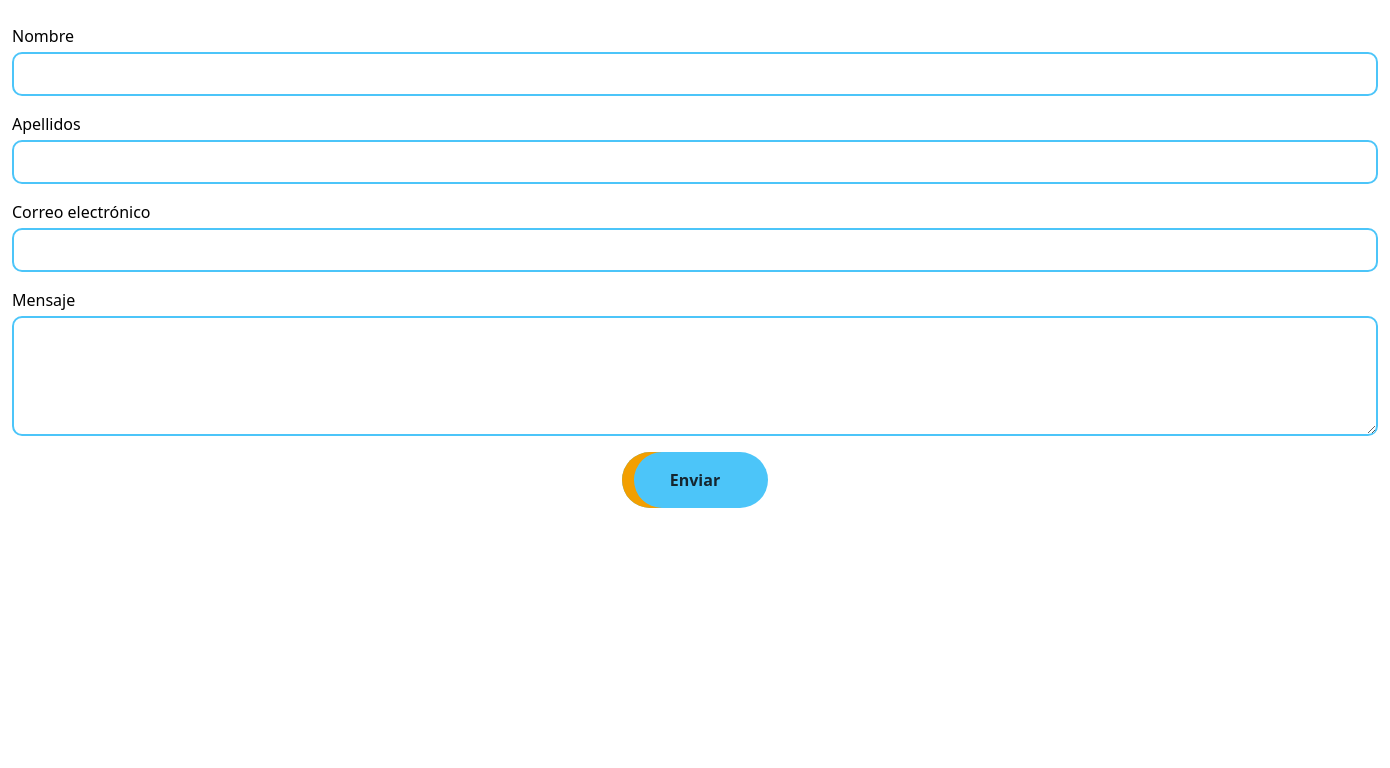
Test: ContactForm with a Formspree ID › keeps what the user typed and offers the email when sending fails
Step 1. Type "Ana" into the field labelled "Nombre" → (695, 74), box x1=12 y1=52 x2=1378 y2=96
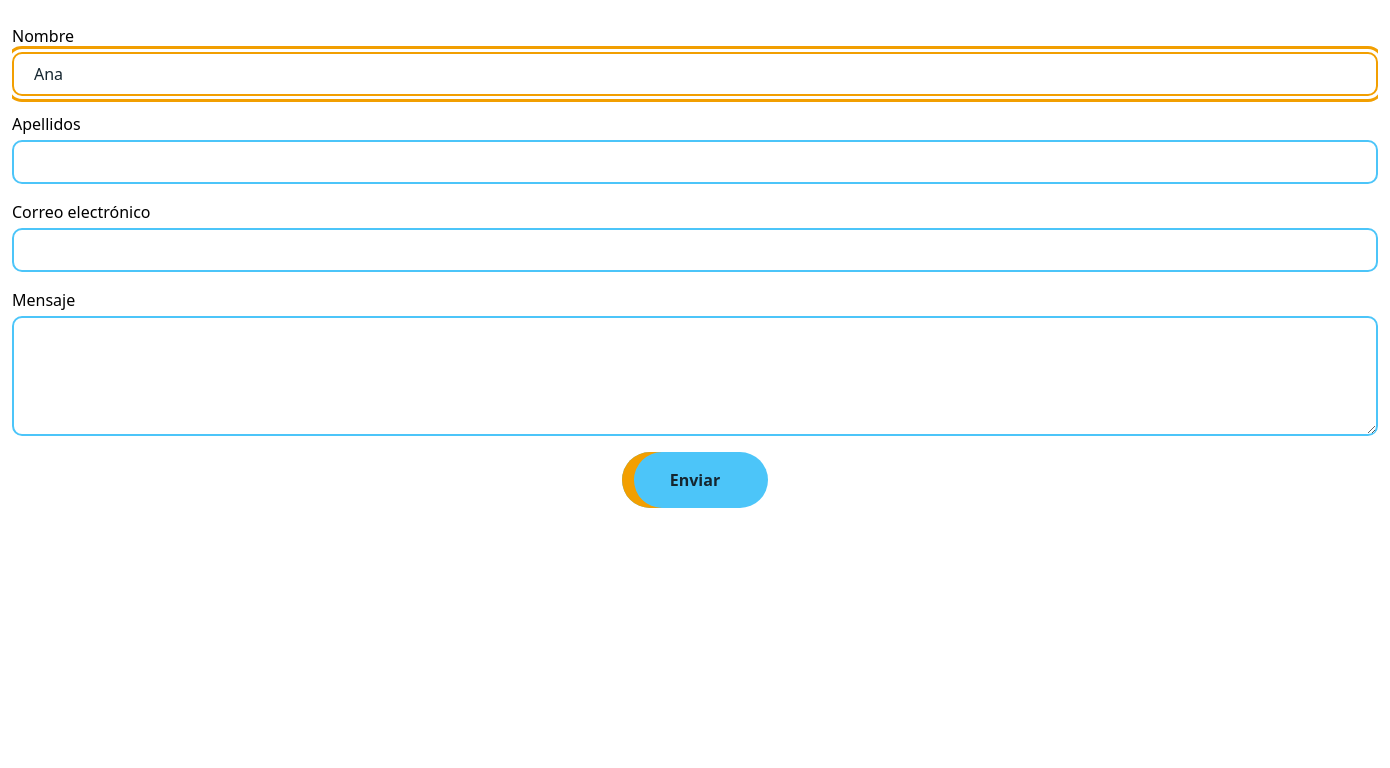
Step 2. Type "Mora Solís" into the field labelled "Apellidos" → (695, 162), box x1=12 y1=140 x2=1378 y2=184
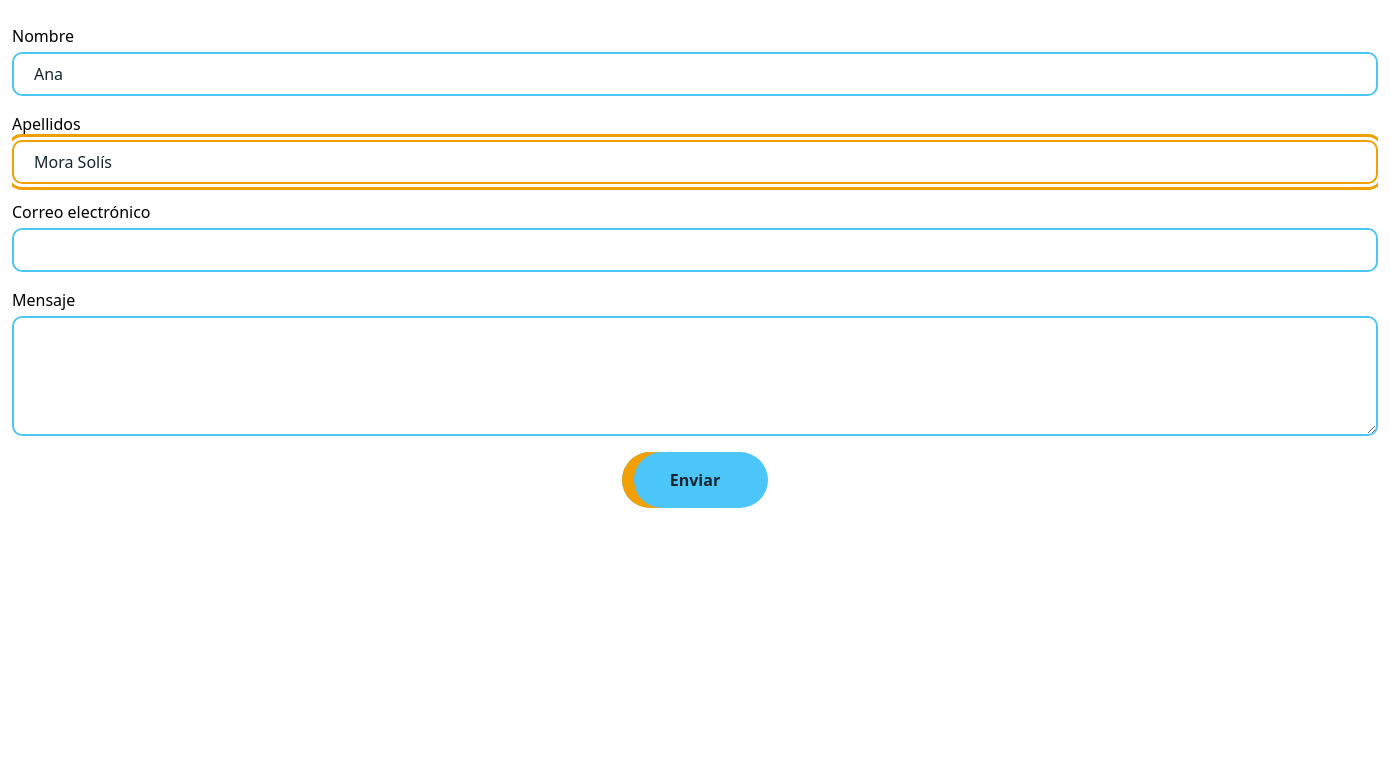
Step 3. Type "ana@example.com" into the field labelled "Correo electrónico" → (695, 250), box x1=12 y1=228 x2=1378 y2=272
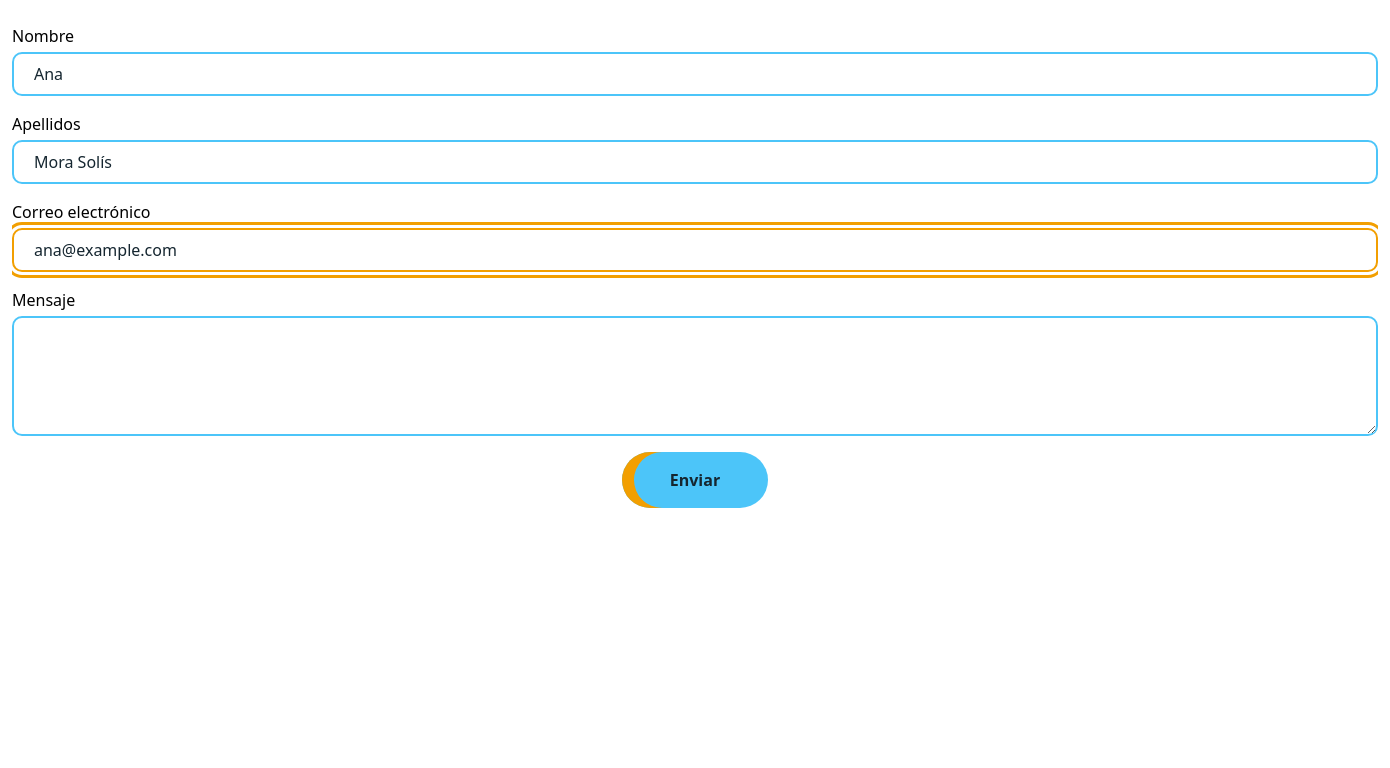
Step 4. Type "Quiero una demo." into the text box labelled "Mensaje" → (695, 376), box x1=12 y1=316 x2=1378 y2=436
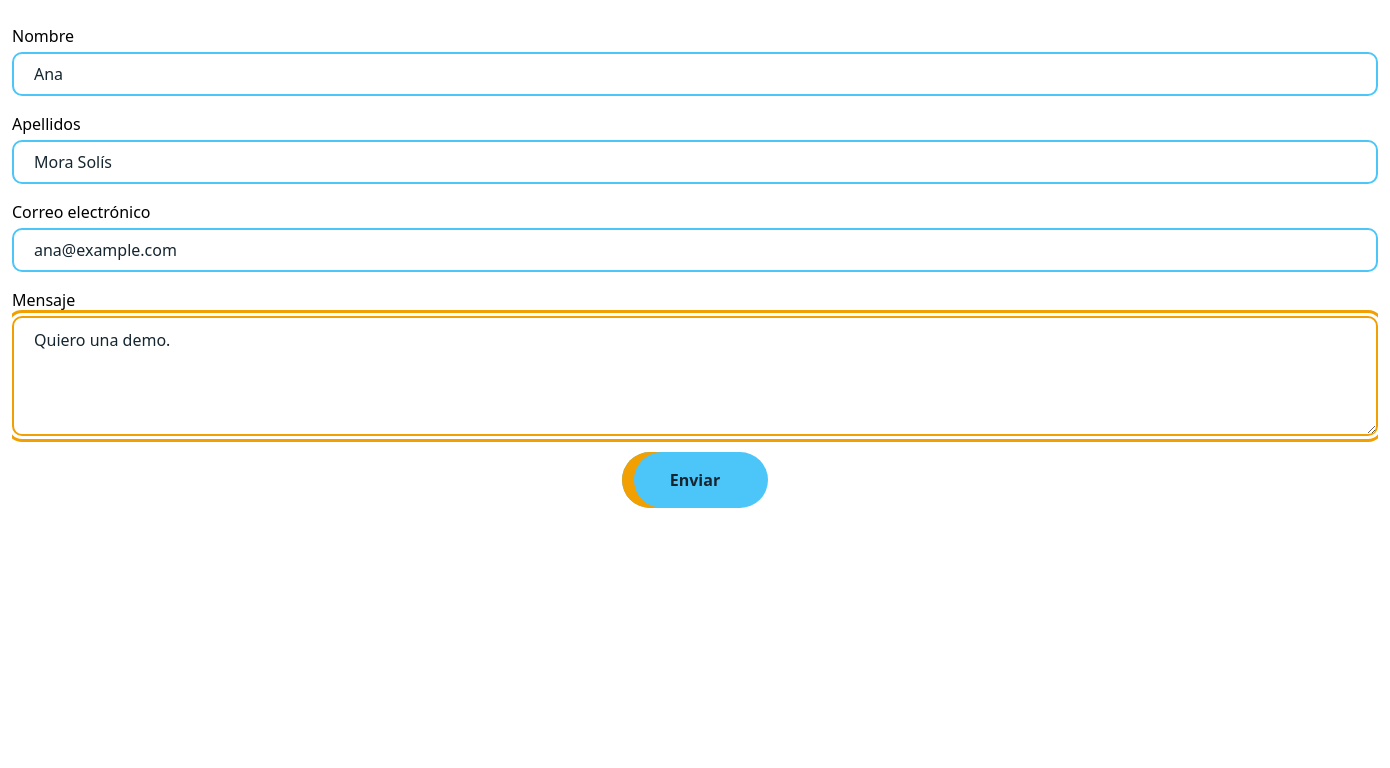
Step 5. Click the button "Enviar" → (695, 480), box x1=622 y1=452 x2=768 y2=508
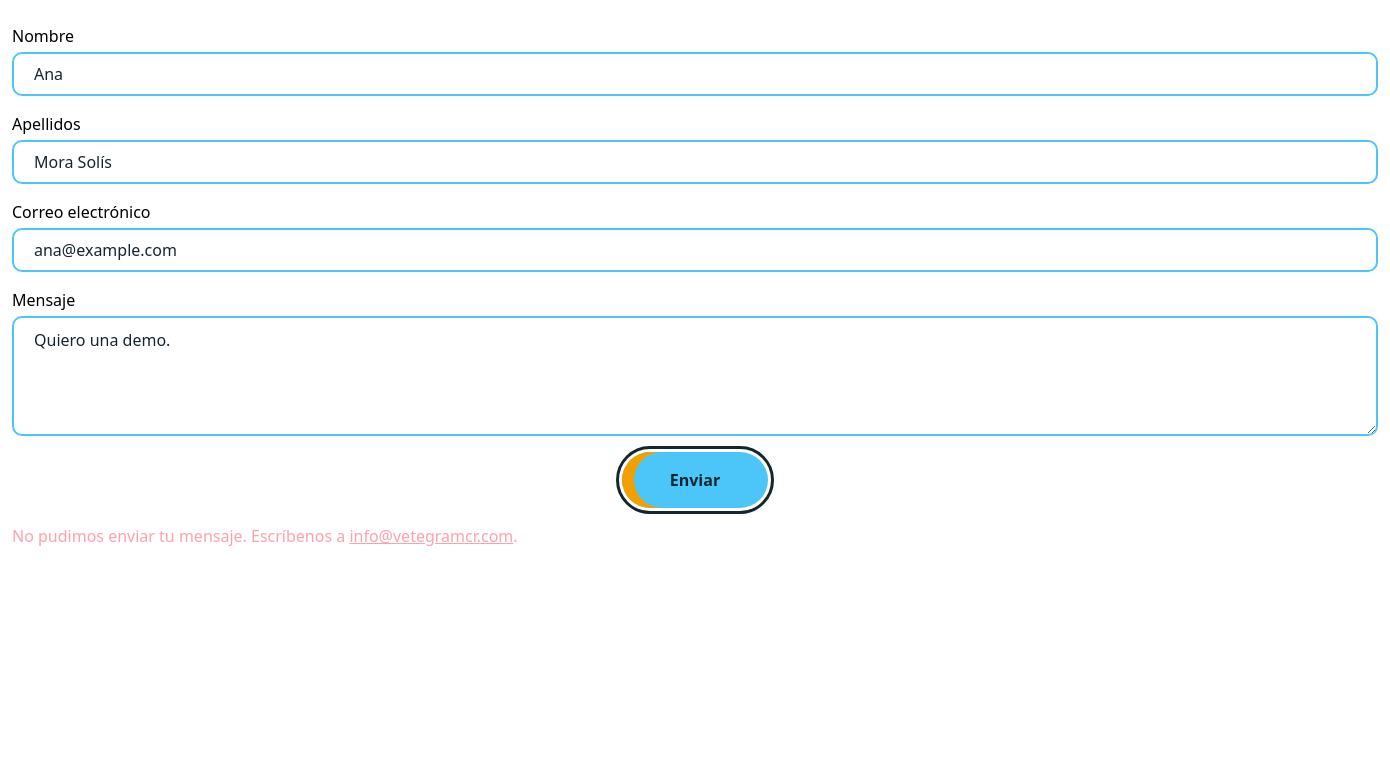
Expected: the text "No pudimos enviar tu mensaje" is shown, x1=12 y1=525 x2=345 y2=547
